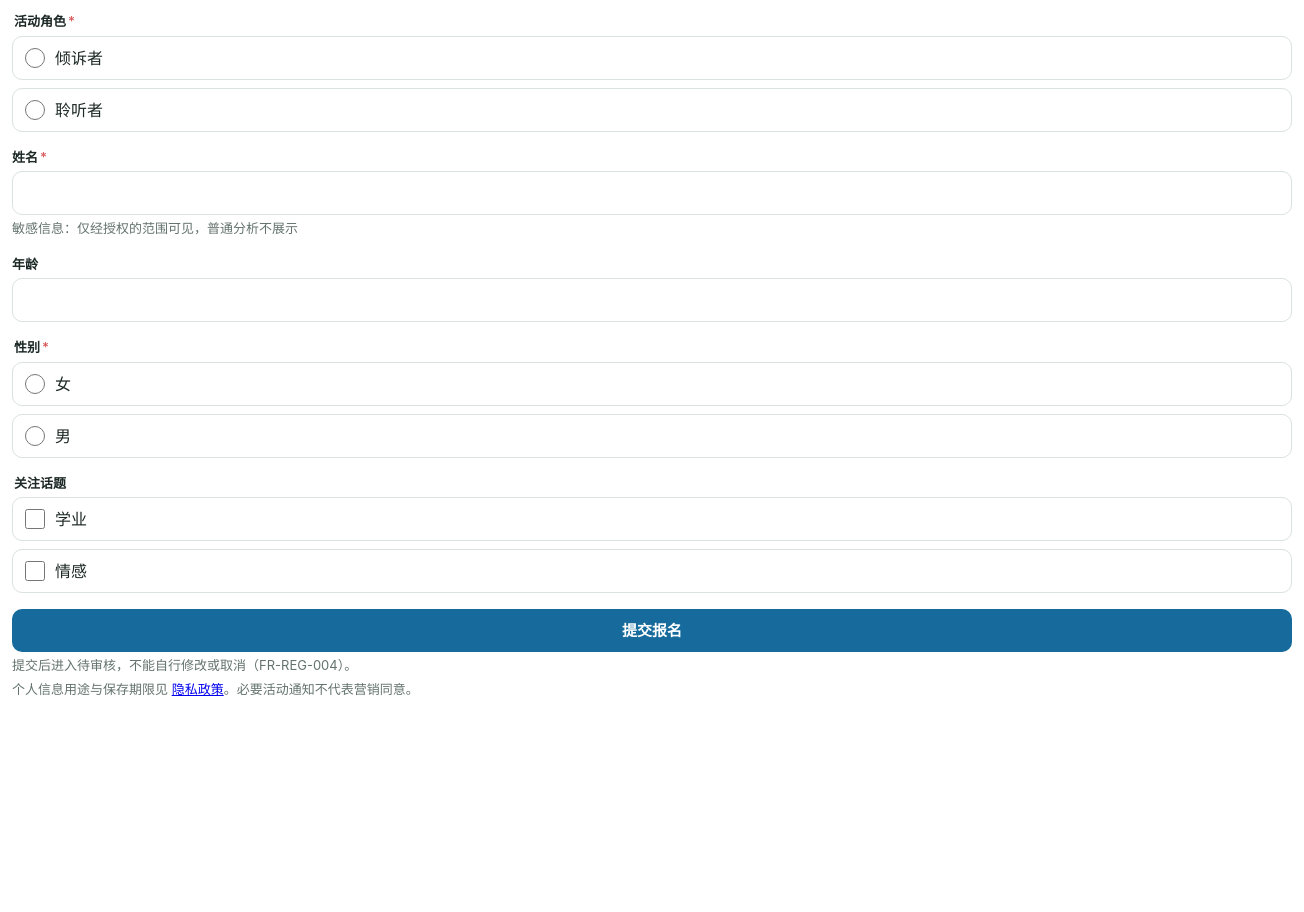
Test: RegistrationForm 报名表单 › 必填缺失：展示角色与字段错误且不提交
The image size is (1304, 912).
Click the button "提交报名": (652,630) [12,609,1292,652]
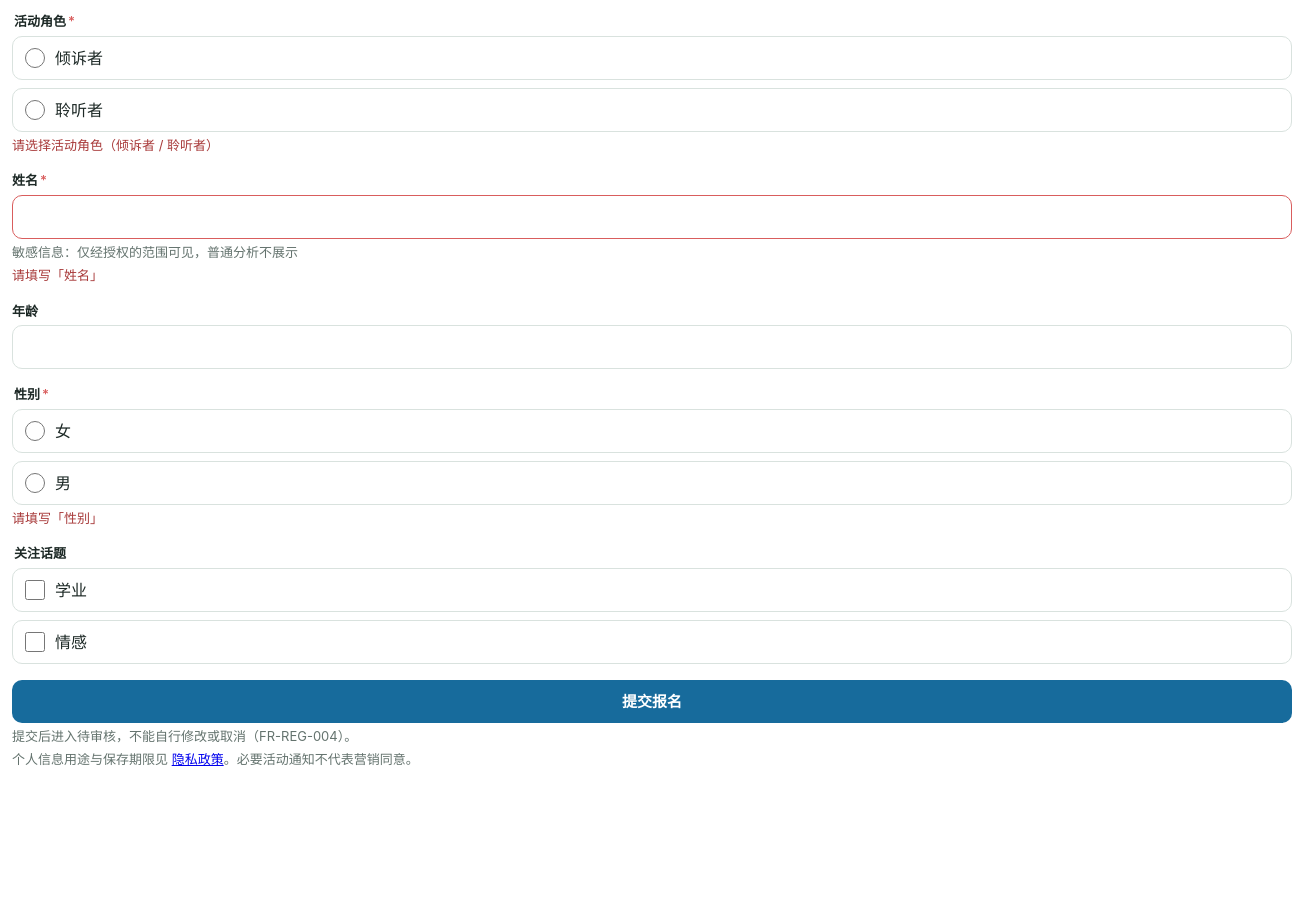
Check: the text "请选择活动角色（倾诉者 / 聆听者）" is shown, box [12,136,219,152]
Check: the text "请填写「姓名」" is shown, box [12,267,103,283]
